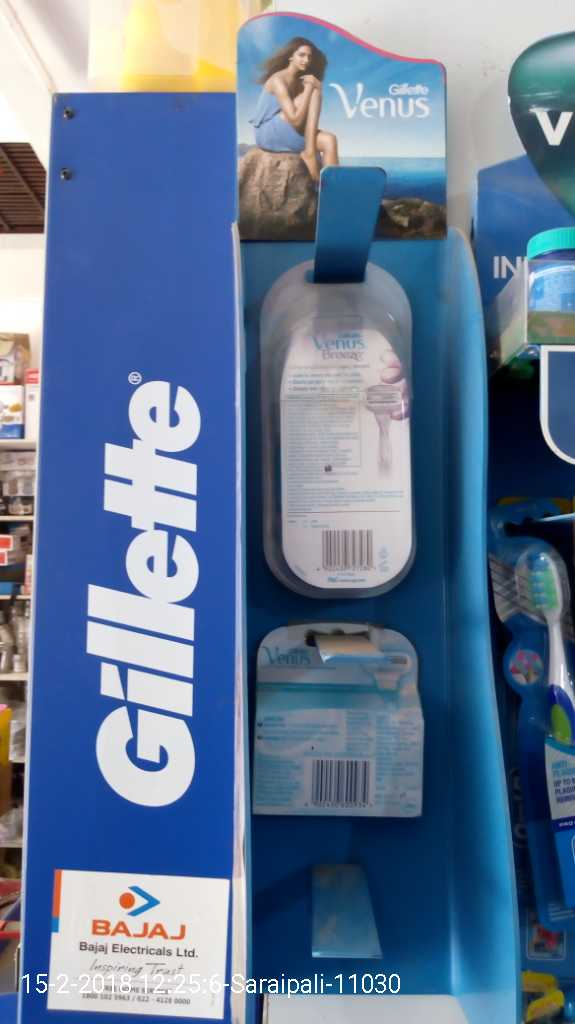reject: (109, 183, 189, 274)
